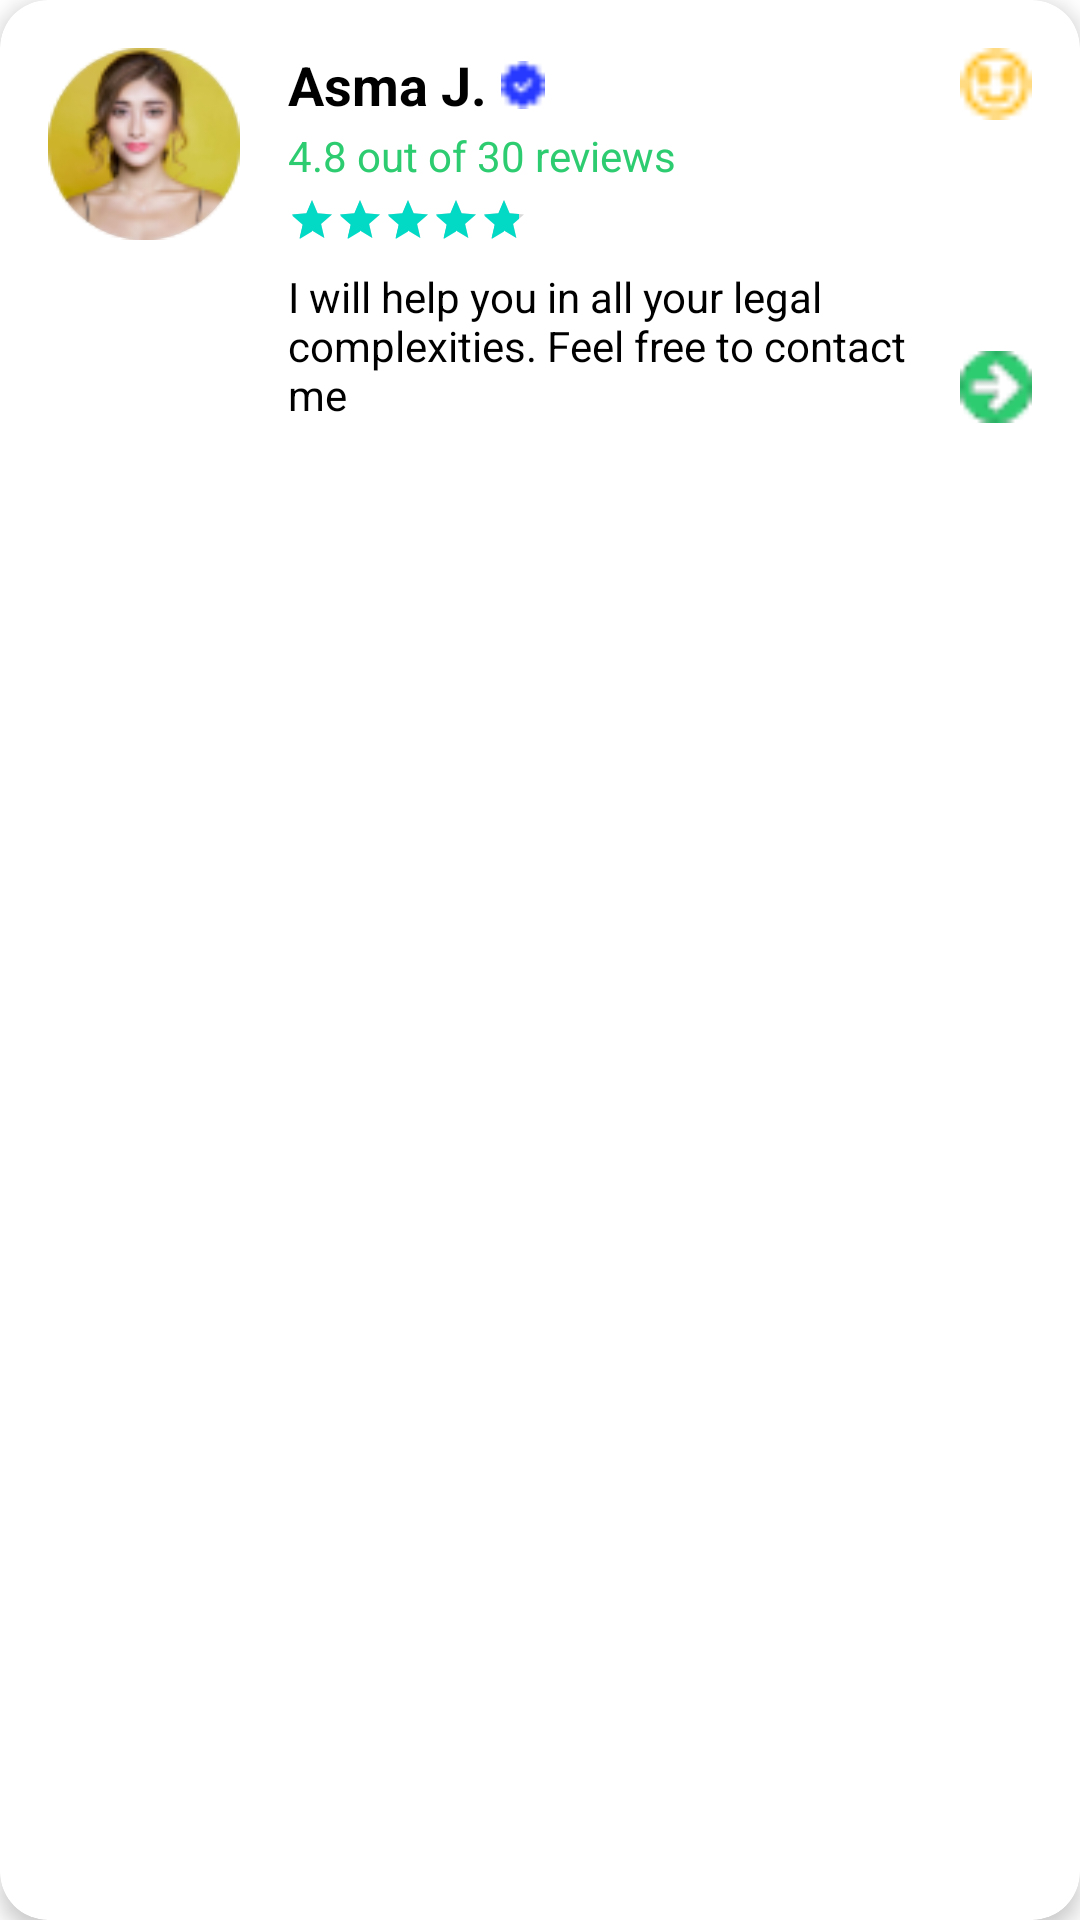

Icons on this 1080x1920 Android screen, each with the point to tap as [x,y]:
Emoji reaction: [996,84]
Go to profile: [996,387]
Profile picture: [144,144]
Verified user: [523,85]
